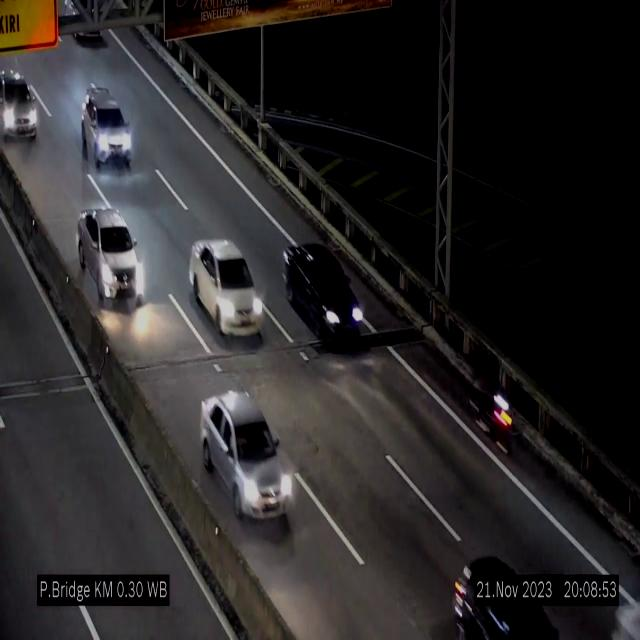Car: (200, 391, 293, 521), (284, 237, 368, 353), (189, 240, 264, 336), (77, 204, 142, 300), (82, 90, 132, 170), (0, 60, 42, 151)
Motorcycle: (469, 360, 514, 461)
